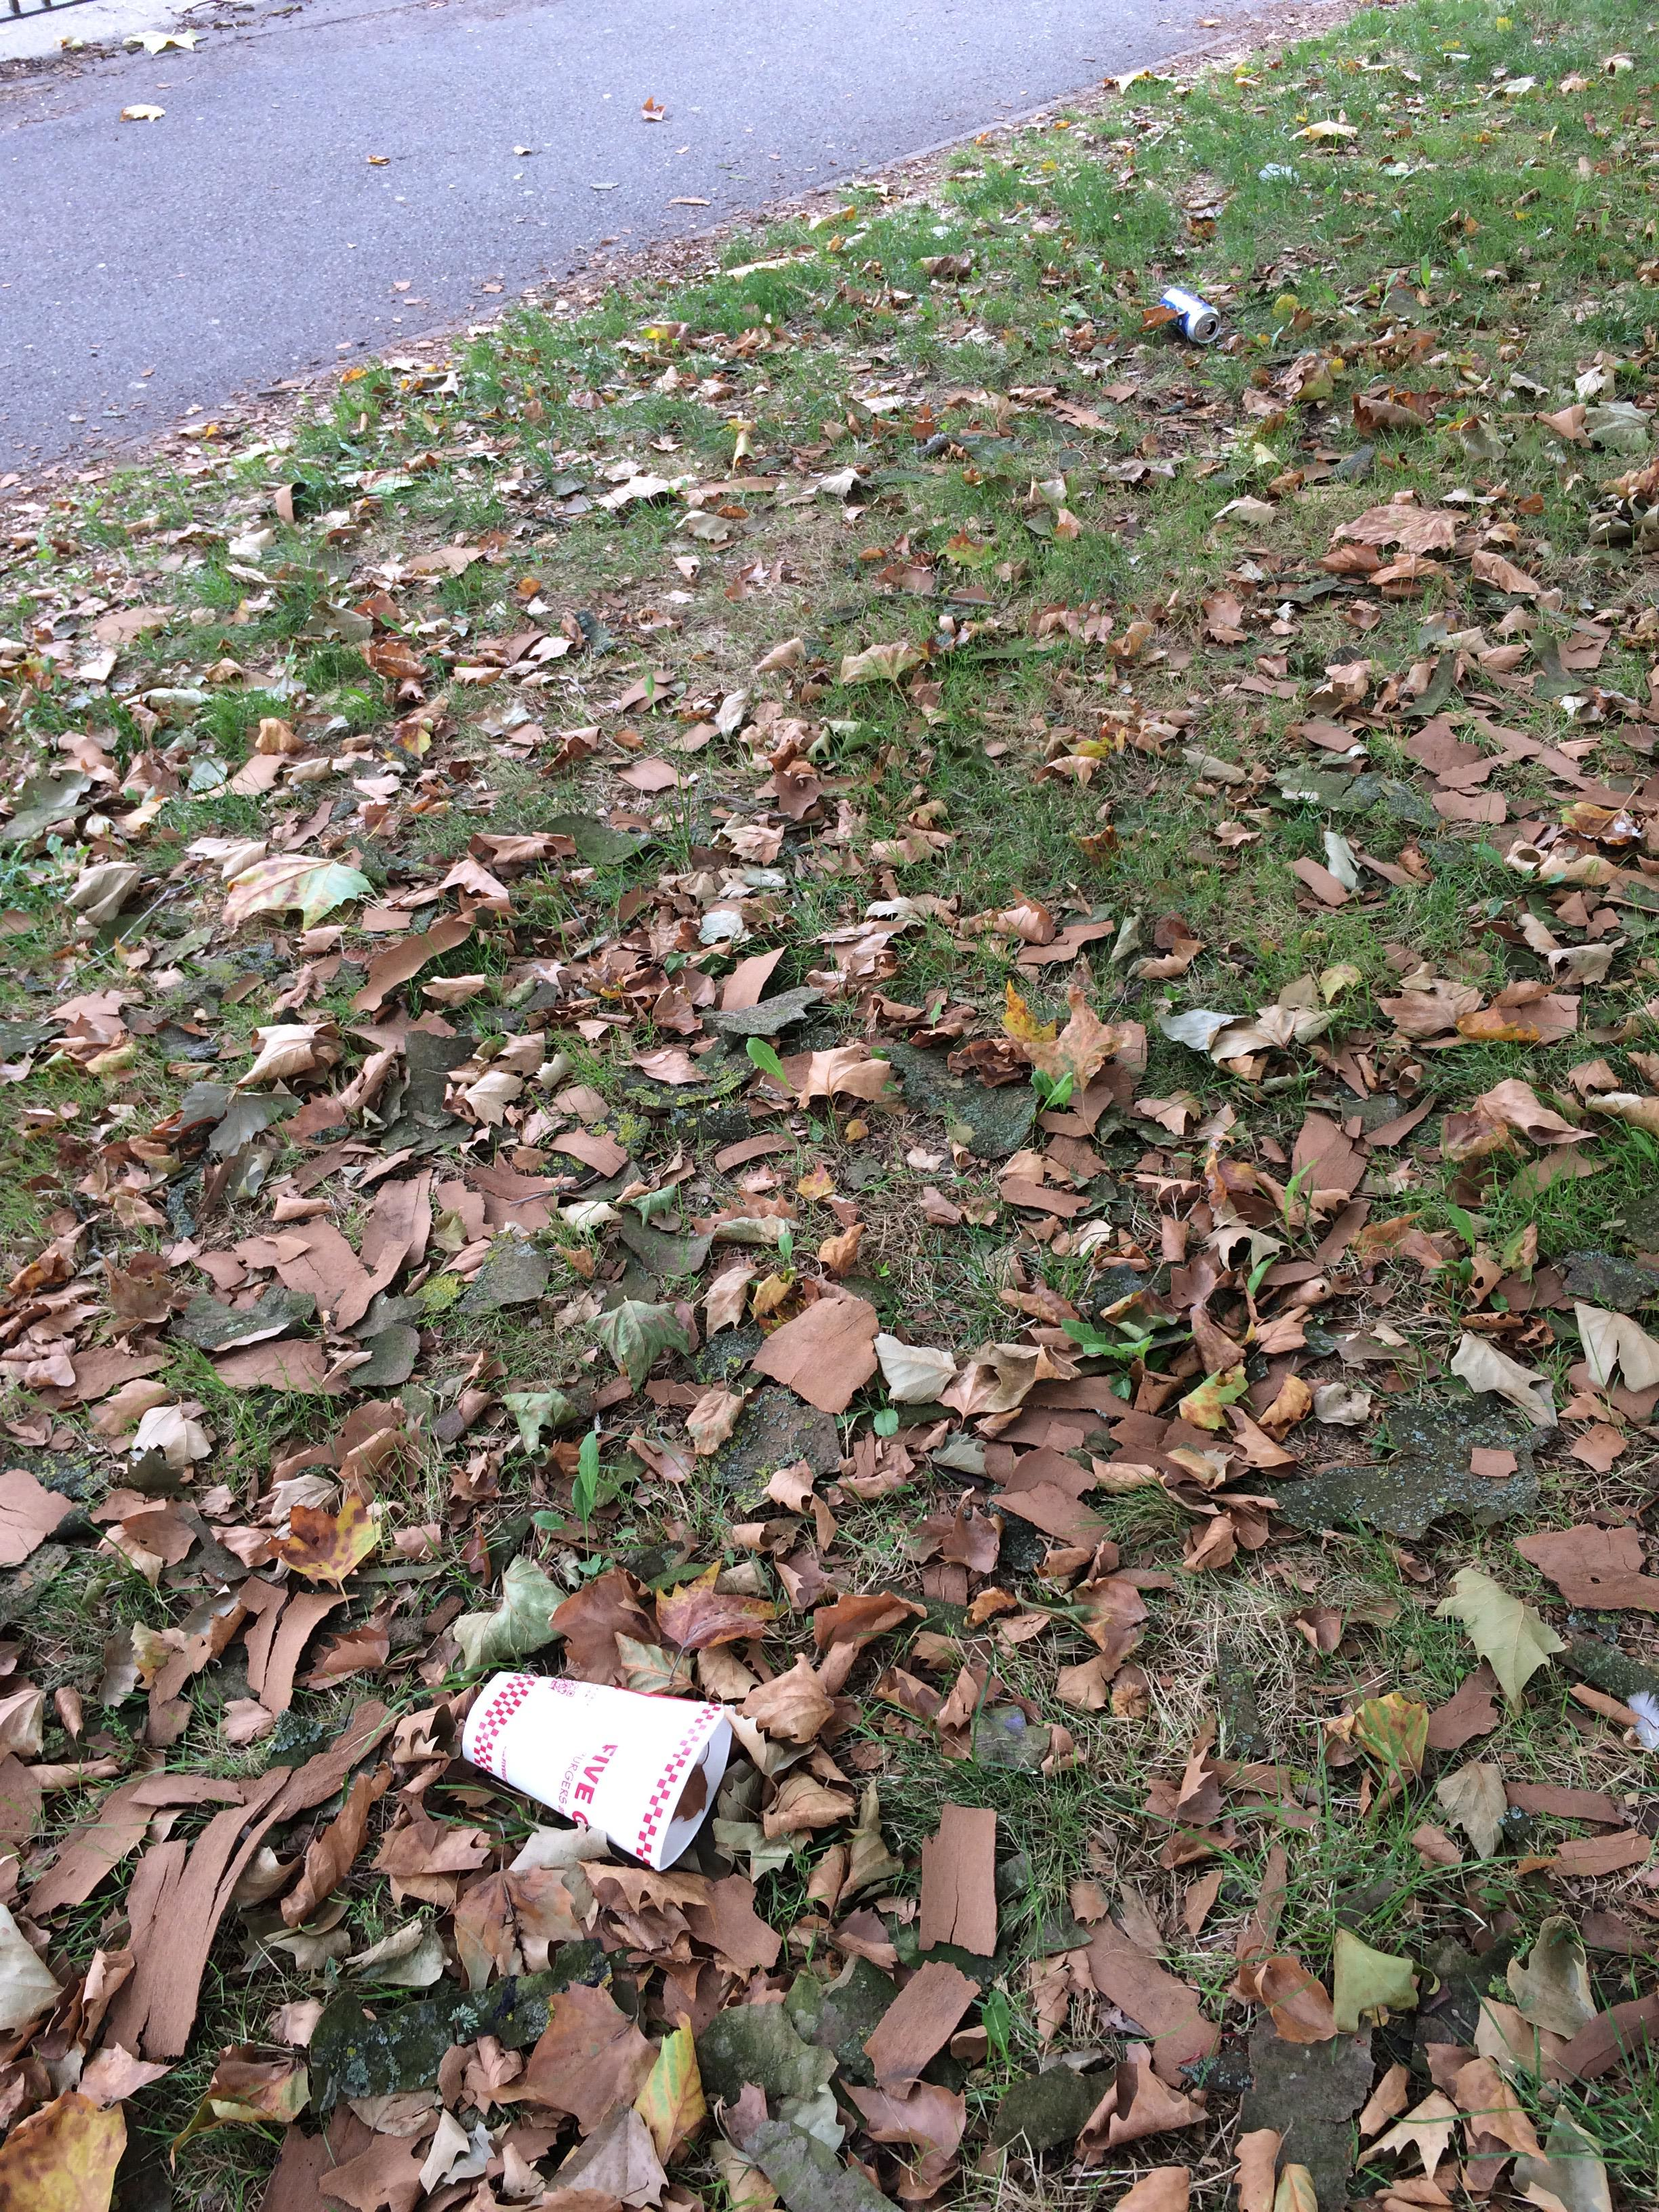Trash: (457, 1662, 732, 1874), (1147, 280, 1230, 348)
